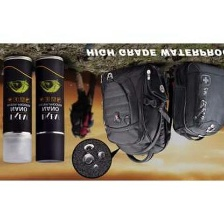aerosol_cans: (0, 52, 37, 166), (31, 53, 67, 165)
